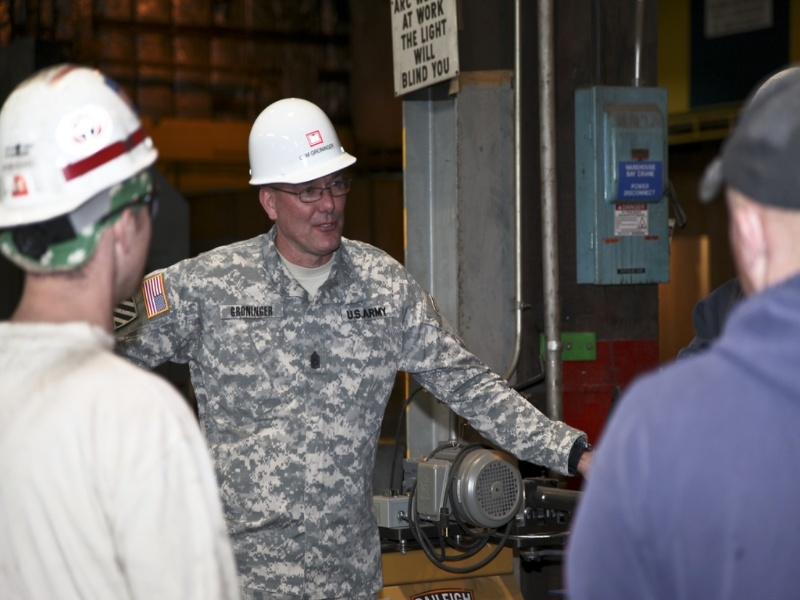Baret: (1, 64, 160, 224), (246, 98, 357, 188)
